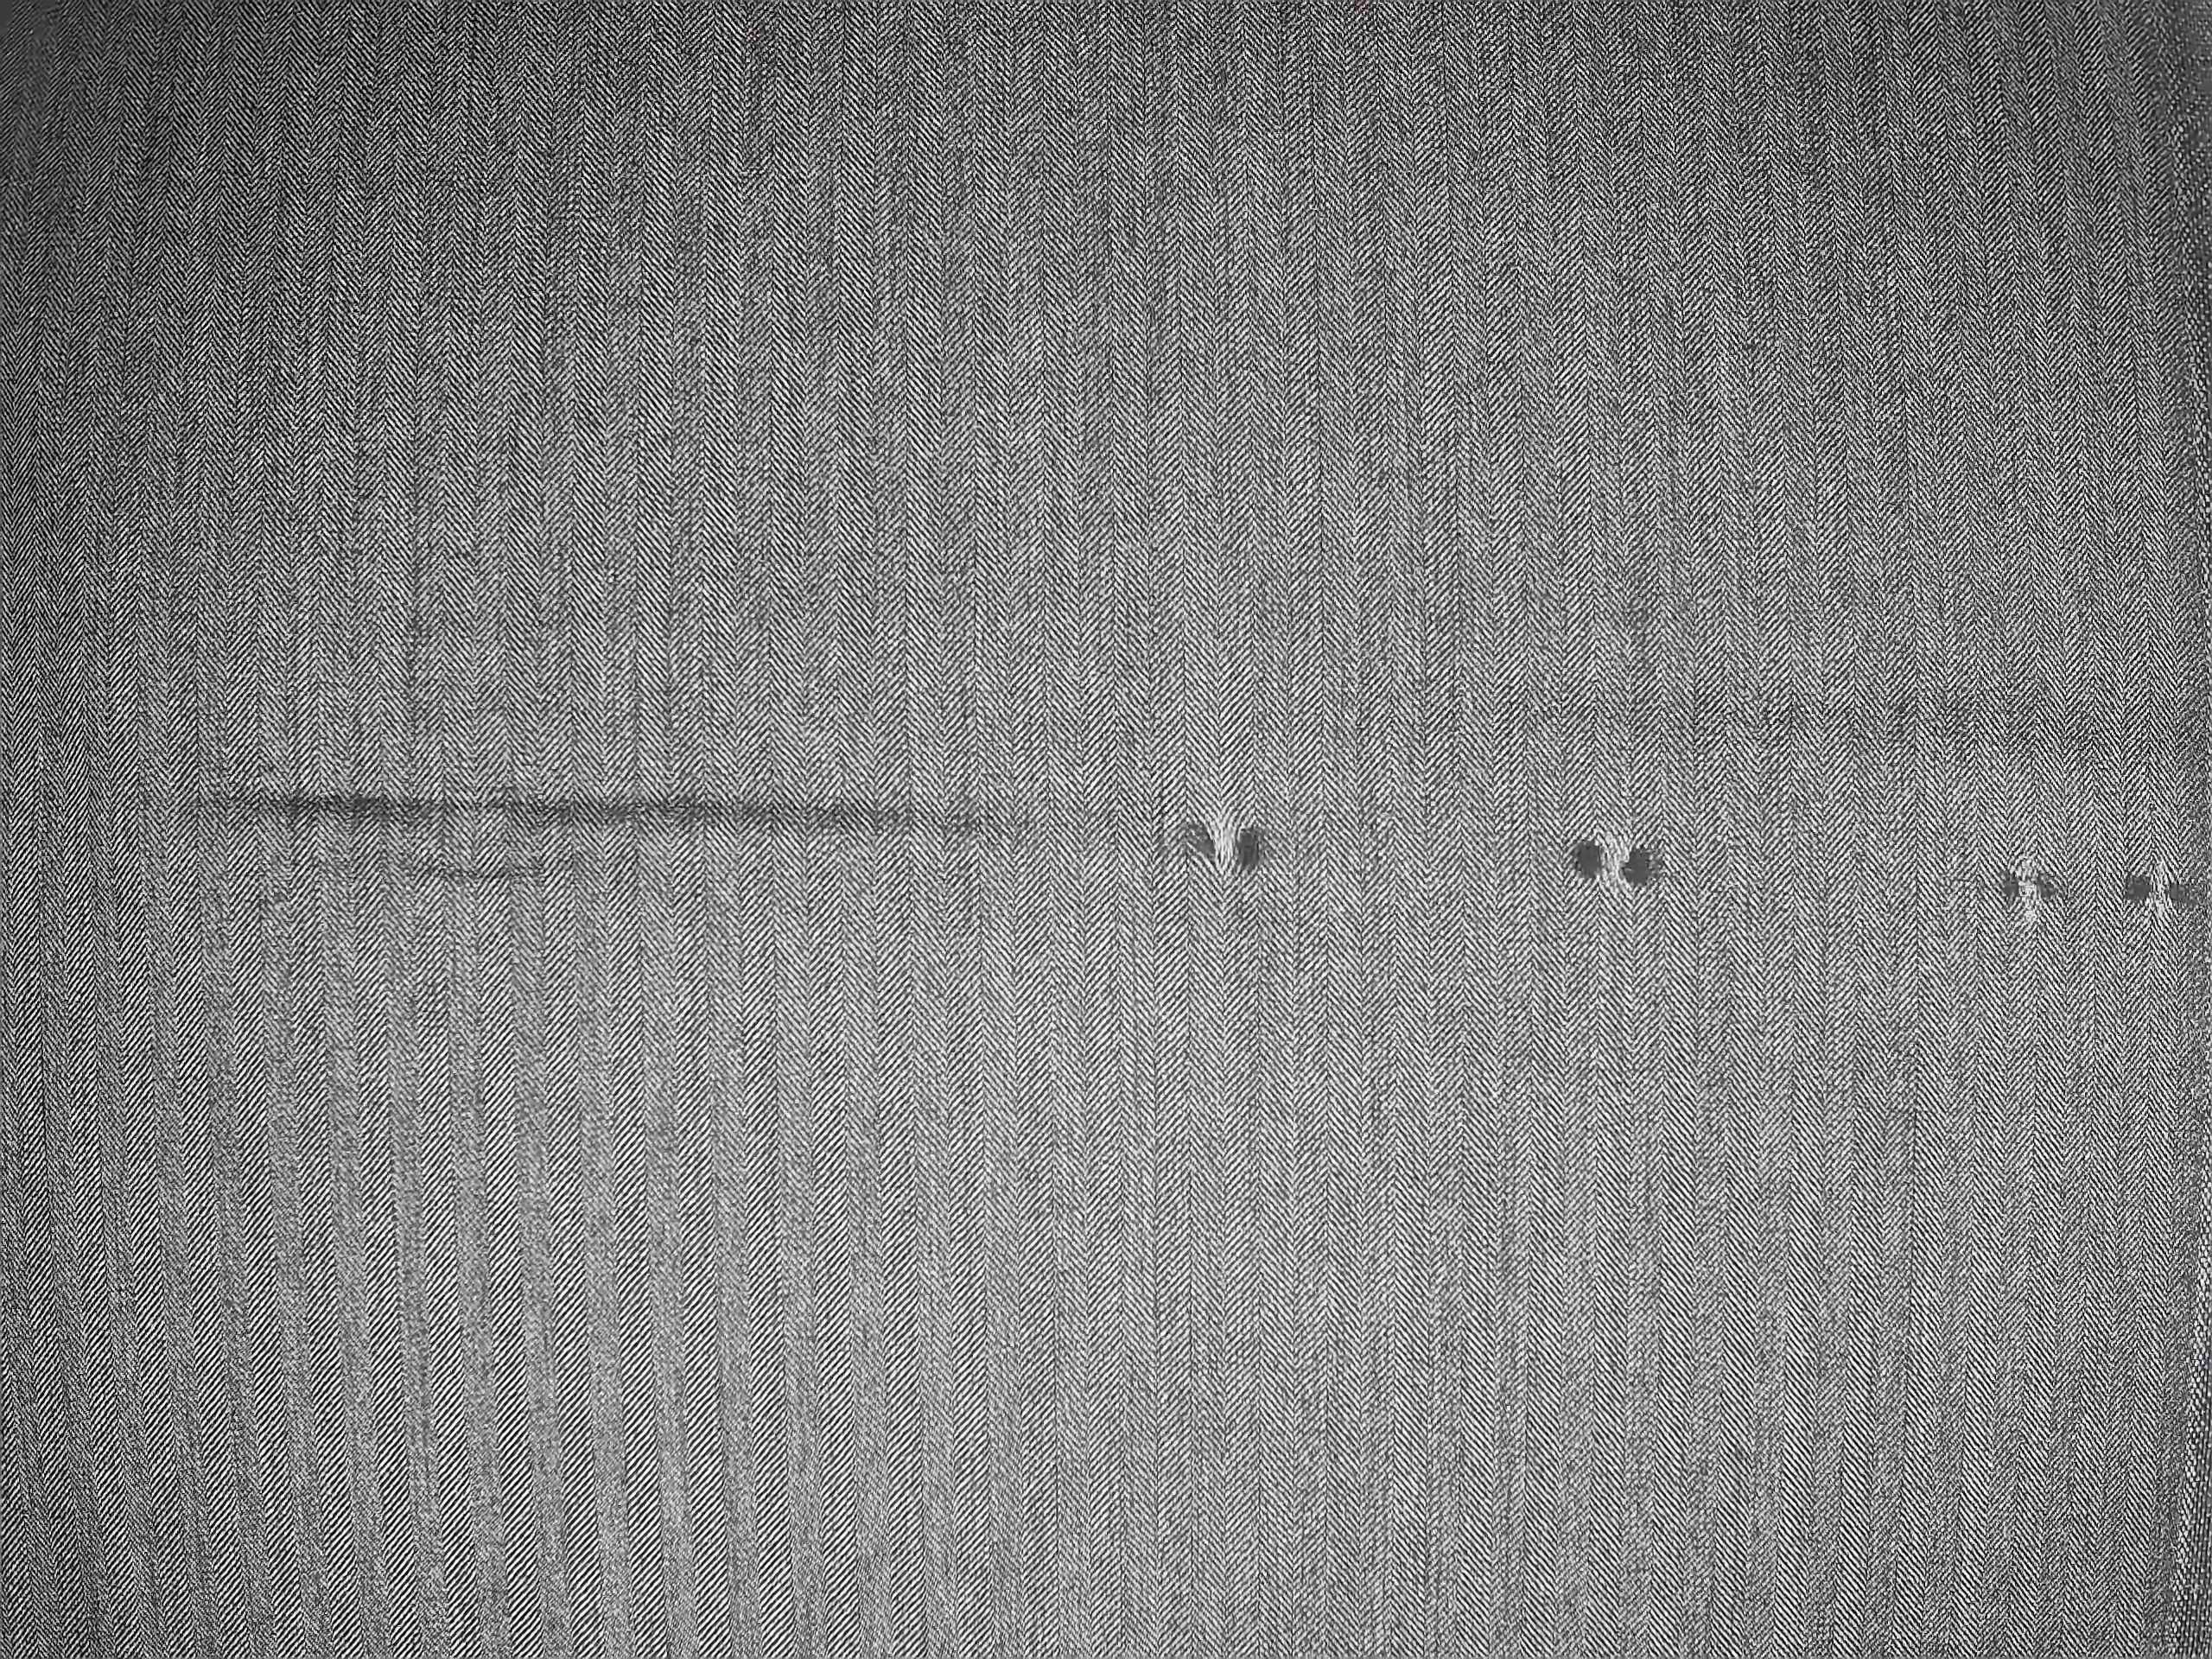rubbing-hole: (1980, 828, 2212, 948), (1548, 816, 1698, 922), (1148, 795, 1284, 901)
